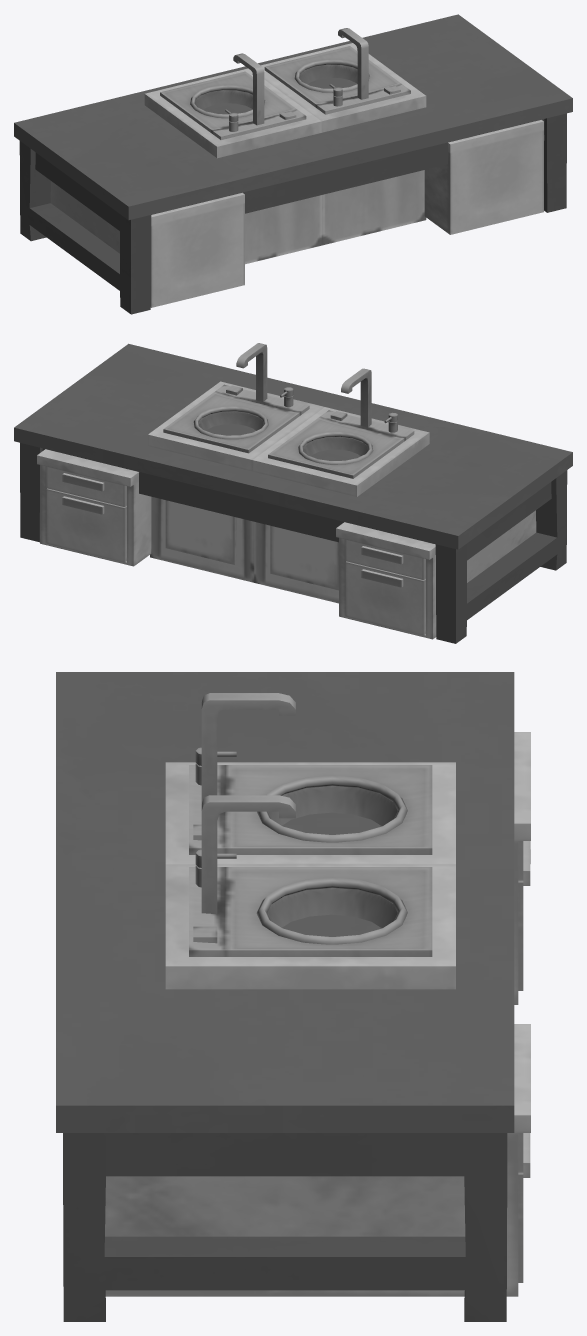
File: Pfb_Table_02_5_JLAB_Temp__2.fbx
3 renders of one model, top to bottom at view 1: azimuth 30°, elevation 25°; view 2: azimuth 150°, elevation 25°; view 3: azimuth 270°, elevation 25°, orthographic. The views are drawn at different scales.
Parts seen in each view (by area): view 1: Mat_Table_02White, Kitchen; view 2: Mat_Table_02White, Kitchen; view 3: Mat_Table_02White, Kitchen.
Part boxes in pixels (x1,y1,x2,y2): Mat_Table_02White: (14, 14, 572, 314); Kitchen: (50, 28, 543, 307); Mat_Table_02White: (14, 343, 572, 643); Kitchen: (37, 343, 536, 639); Mat_Table_02White: (56, 672, 514, 1321); Kitchen: (105, 693, 530, 1296).
Bounding box in the file's own units: 2.78 × 1.09 × 1.29.
Materials: 2 (2 with a texture image).
